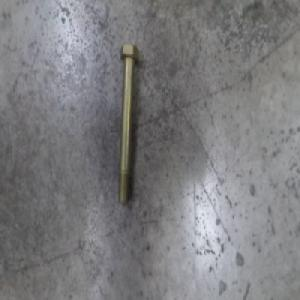Bolt: (116, 39, 139, 207)
